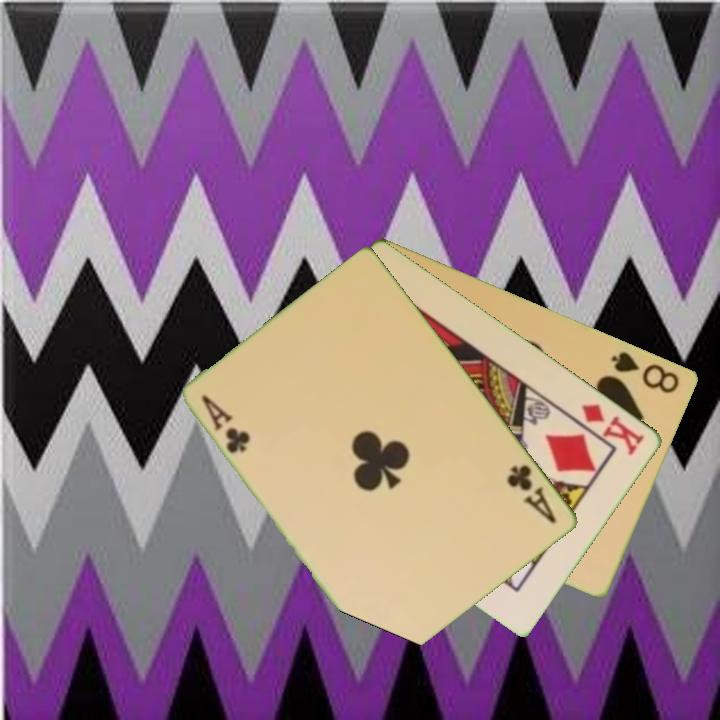8s: (608, 347, 683, 396)
Ac: (503, 461, 560, 527), (198, 390, 254, 457)
Kd: (578, 400, 648, 458)
